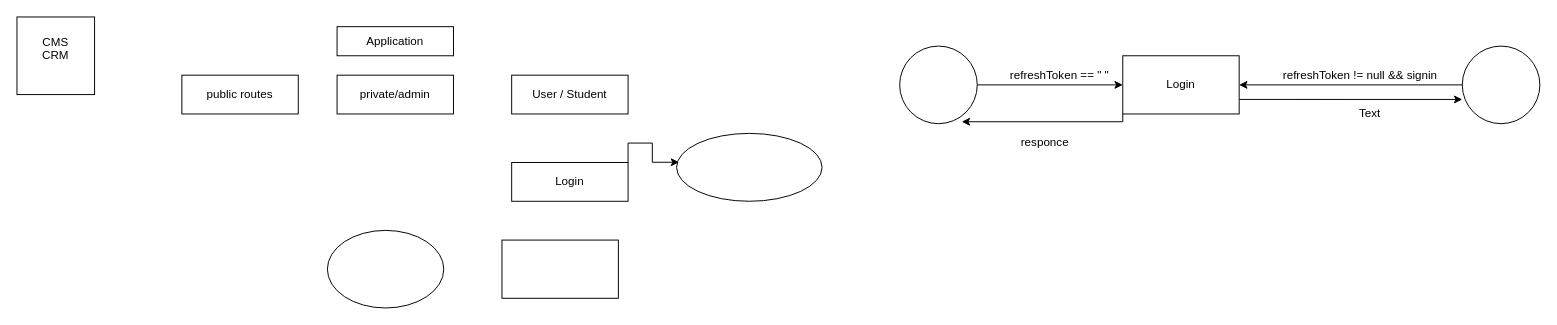
Image size: 1557x325. Some labels were removed from this diagram. Here are the shapes that lost their labels. From the top down, the centre of each, then its label:
the point at 749,166: Usernam, password
the point at 385,268: ManageTeam profile update view profile idea Submission
the point at 559,268: Dashboard
